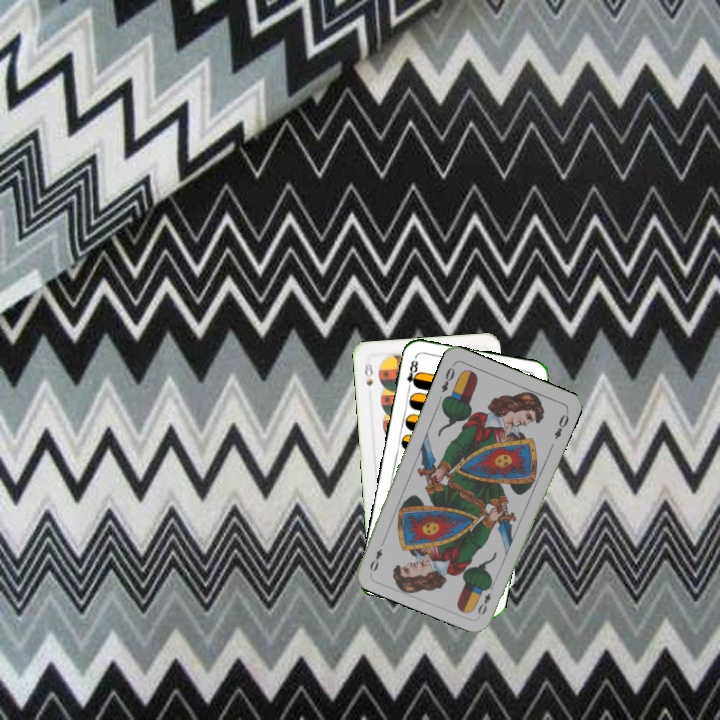E8: (403, 353, 422, 393)
EO: (474, 580, 497, 618), (437, 360, 457, 395)
S8: (360, 359, 376, 388)
